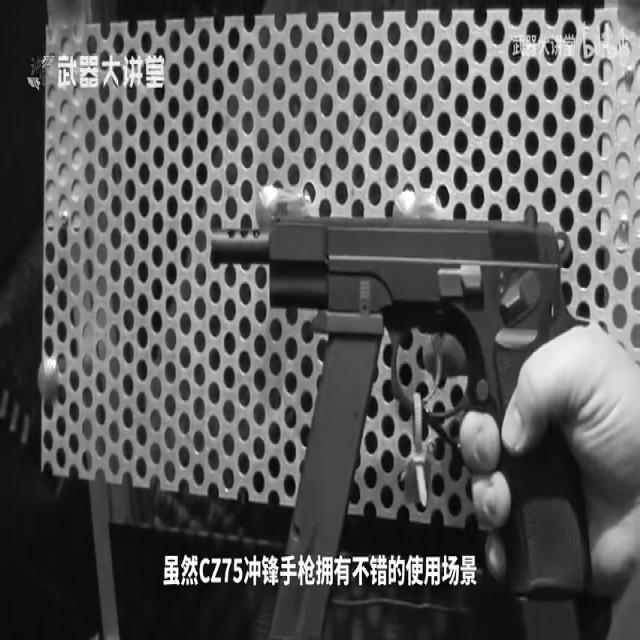Hand-Gun: (198, 208, 612, 640)
